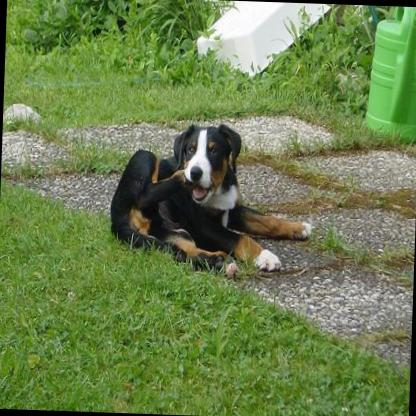Appenzeller: (108, 119, 316, 282)
